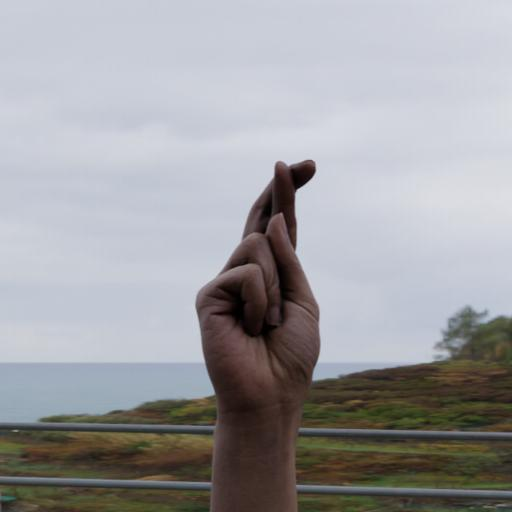R: (192, 154, 338, 419)
